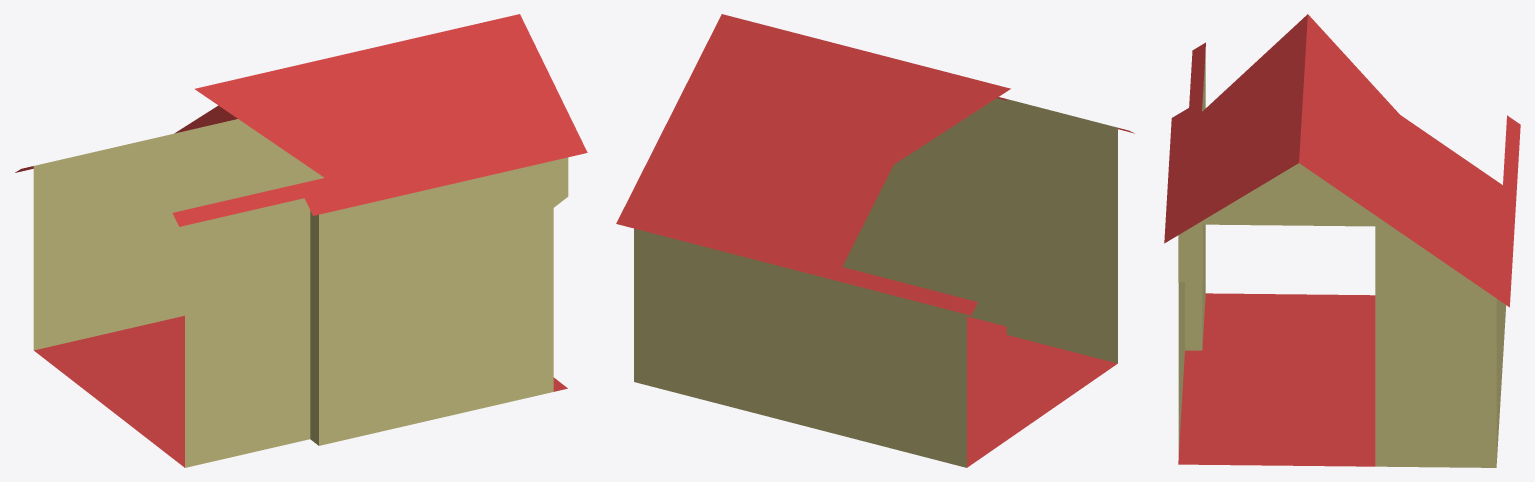
The picture shows the model from 3 angles, left to right: view 1: azimuth 30°, elevation 25°; view 2: azimuth 150°, elevation 25°; view 3: azimuth 270°, elevation 25°; orthographic projection. The views are drawn at different scales.
Size of the model in its own units: 16.17 by 13.07 by 12.48.
